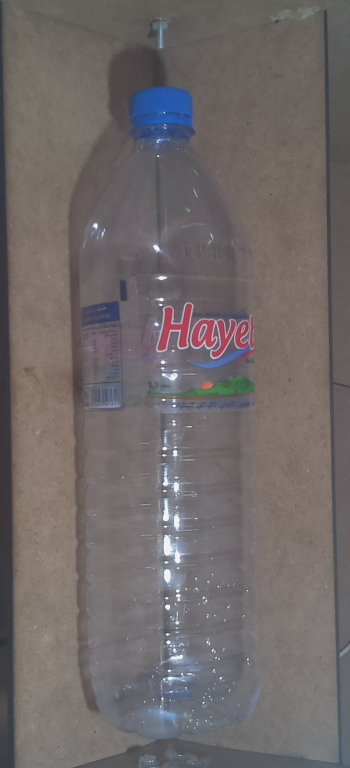Bouteille_1.5L: (67, 79, 279, 749)
